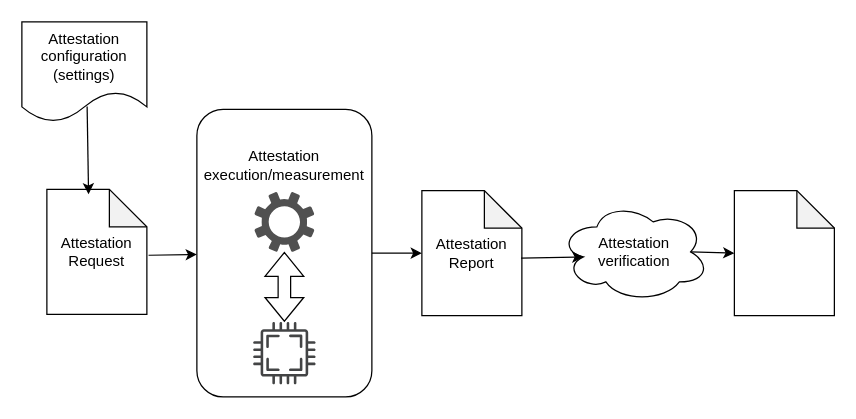
This 856x419 diagram has some shape labels left out. Here are the shapes that lost their labels. From the top down, the box of each, then its label:
(196, 108, 372, 397): Minion
(733, 189, 834, 316): Attestation Result
